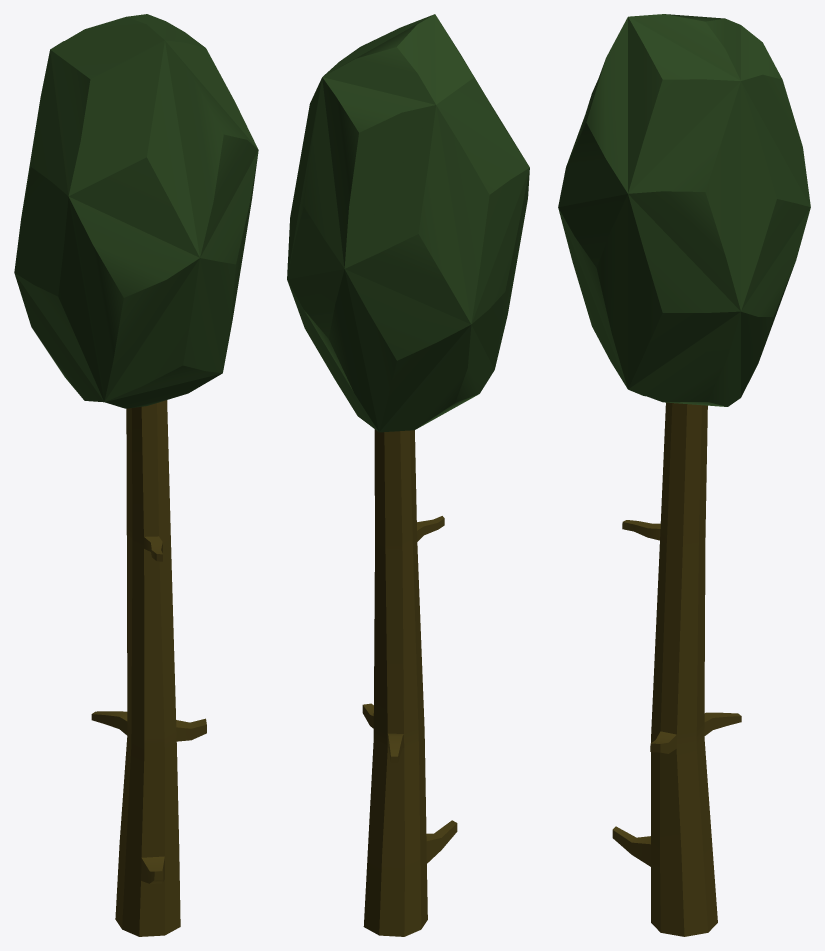
Rendered from ArbolPuente.fbx.
3 renders of one model, left to right at view 1: azimuth 30°, elevation 25°; view 2: azimuth 150°, elevation 25°; view 3: azimuth 270°, elevation 25°, orthographic.
Parts seen in each view (by area): view 1: Arbol_Puente; view 2: Arbol_Puente; view 3: Arbol_Puente.
Part boxes in pixels (box(x1,y1,x2,y2)): Arbol_Puente: box(14, 14, 258, 936); Arbol_Puente: box(287, 14, 529, 936); Arbol_Puente: box(558, 14, 810, 936).
Bounding box in the file's own units: 17.45 × 77.94 × 19.77.
